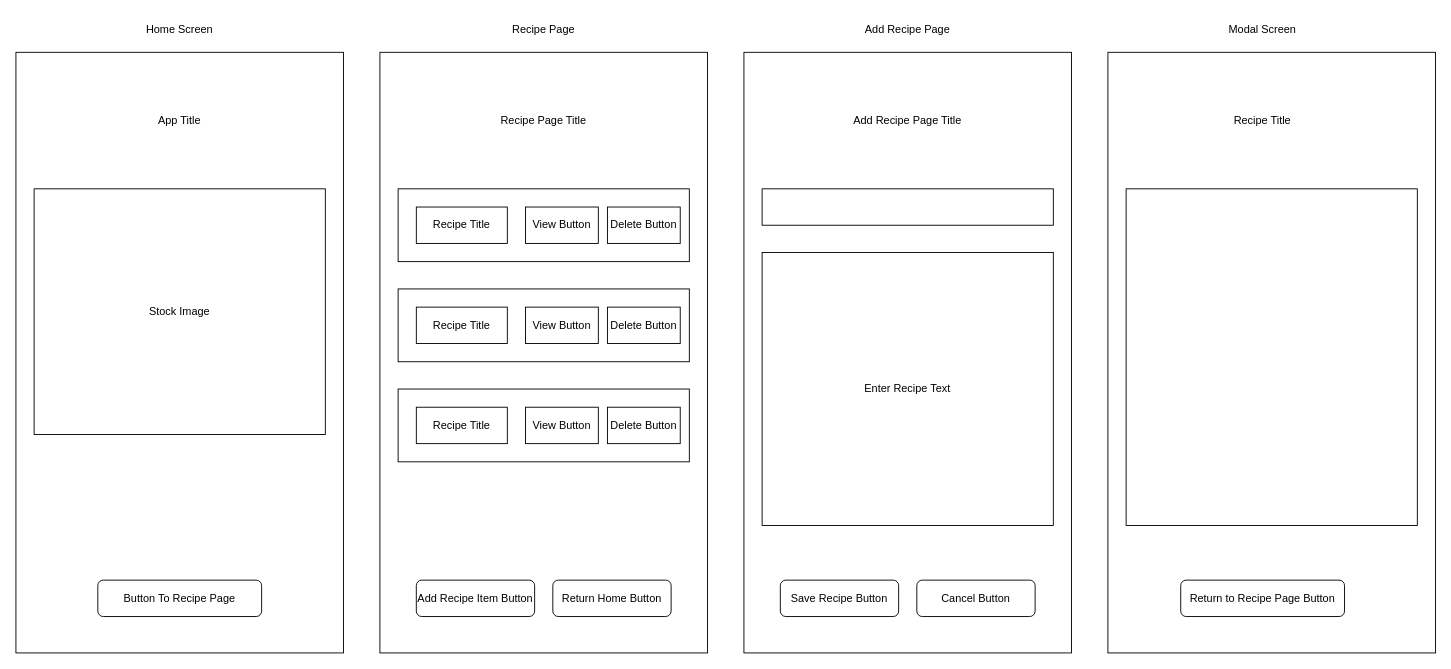
Image size: 1451x669. Some labels were removed from this diagram. The centre of each missing label's shape, as x and y in pixels:
Enter Recipe Title: point (907, 206)
Recipe Text: point (1271, 357)
